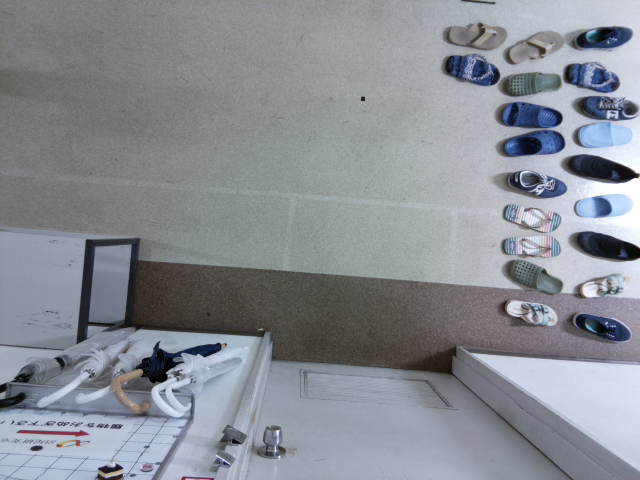Copy of Copy of Copy of Copy of Copy of Copy of Copy of sandal: (565, 61, 621, 92)
Copy of Copy of Copy of Copy of Copy of Copy of sandal: (503, 299, 557, 326)
Copy of Copy of Copy of Copy of Copy of Copy of slipper: (506, 259, 562, 295)
Copy of Copy of Copy of Copy of Copy of sandal: (580, 273, 630, 298)
Copy of Copy of Copy of Copy of Copy of shoes: (574, 25, 634, 50)
Copy of Copy of Copy of Copy of Copy of slipper: (573, 193, 633, 218)
Copy of Copy of Copy of Copy of sandal: (502, 234, 561, 258)
Copy of Copy of Copy of Copy of shoes: (580, 94, 640, 120)
Copy of Copy of Copy of Copy of slipper: (575, 119, 631, 146)
Copy of Copy of Copy of sandal: (503, 203, 561, 233)
Copy of Copy of Copy of shoes: (568, 154, 640, 183)
Copy of Copy of Copy of slipper: (577, 121, 633, 148)
Copy of Copy of sandal: (507, 29, 564, 64)
Copy of Copy of shoes: (576, 230, 640, 261)
Copy of Copy of slipper: (502, 128, 565, 156)
Copy of sandal: (445, 52, 501, 86)
Copy of shoes: (571, 311, 632, 343)
Copy of slipper: (500, 101, 562, 128)
sandal: (447, 21, 507, 50)
shoes: (507, 169, 567, 198)
slipper: (503, 71, 562, 96)
